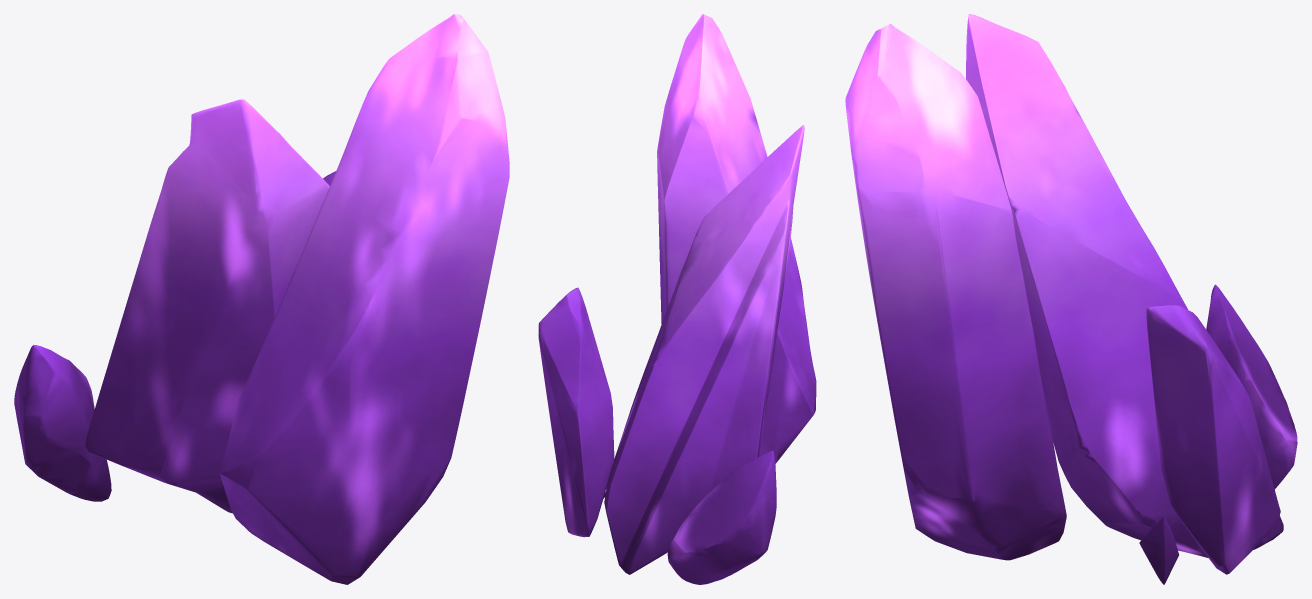
The model's file is odk_cluster_b.glb.
3 renders of one model, left to right at view 1: azimuth 30°, elevation 25°; view 2: azimuth 150°, elevation 25°; view 3: azimuth 270°, elevation 25°, orthographic. The views are drawn at different scales.
Parts seen in each view (by area): view 1: odk_cluster_b; view 2: odk_cluster_b; view 3: odk_cluster_b.
Boxes of the visible parts, box(x1,y1,x2,y2) form: odk_cluster_b: box(14, 14, 509, 584); odk_cluster_b: box(538, 14, 816, 584); odk_cluster_b: box(845, 14, 1297, 584).
Size of the model in its own units: 21.22 by 36.52 by 26.41.
Materials: 1 (1 with a texture image).
